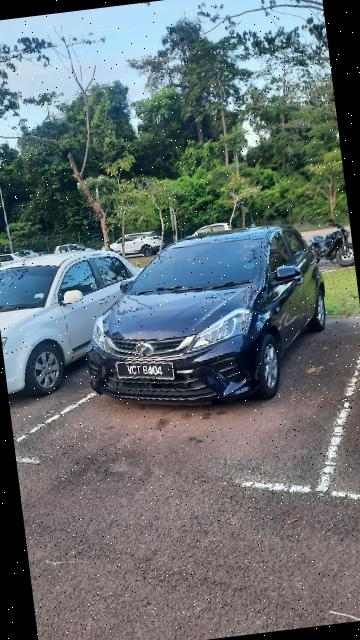License_Plate: (110, 350, 186, 392)
car: (66, 214, 340, 424)
